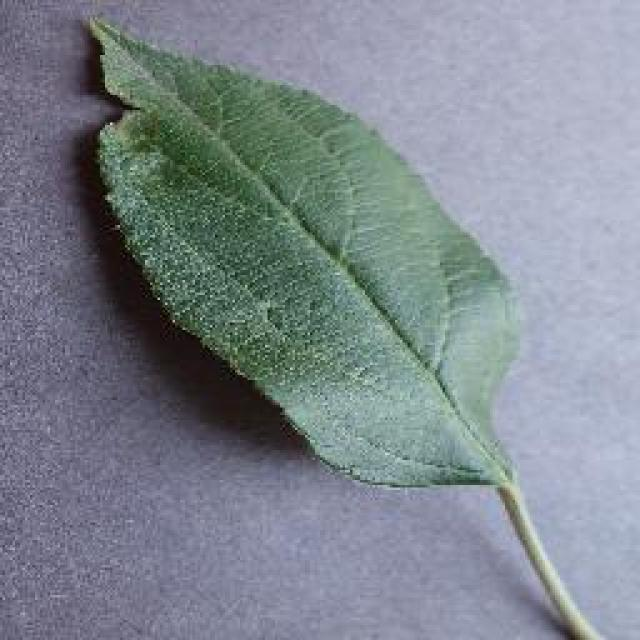apple scab disease: (80, 10, 635, 638)
